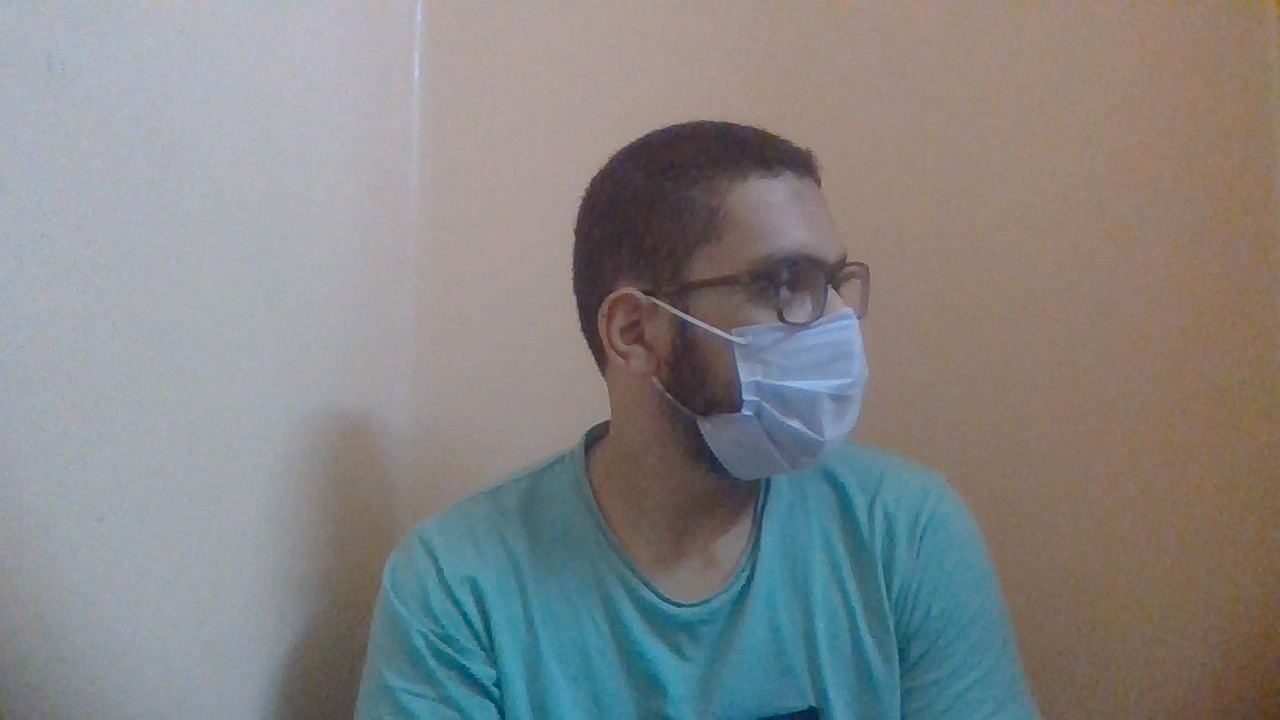mask: (700, 307, 868, 483)
